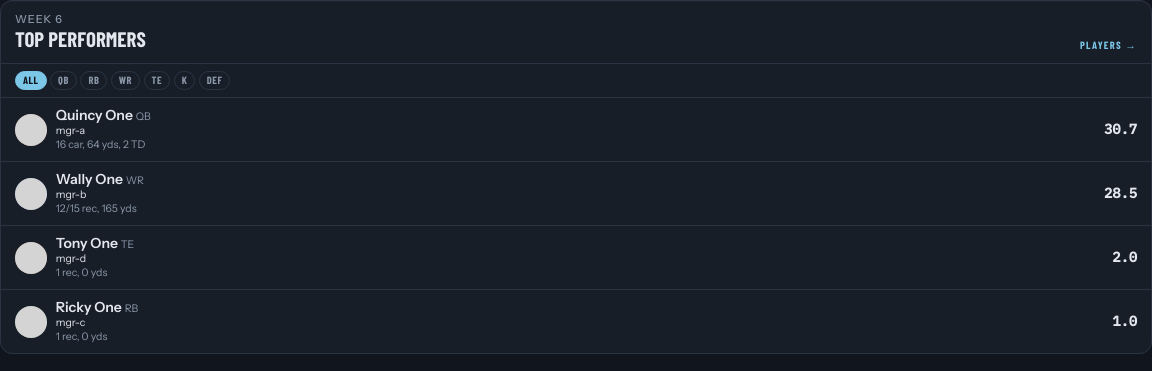
Test: TopPerformers › filters by position, saying so when nobody at that position started
Step 1. Click the button "WR" → (126, 80), box [111,70,140,90]
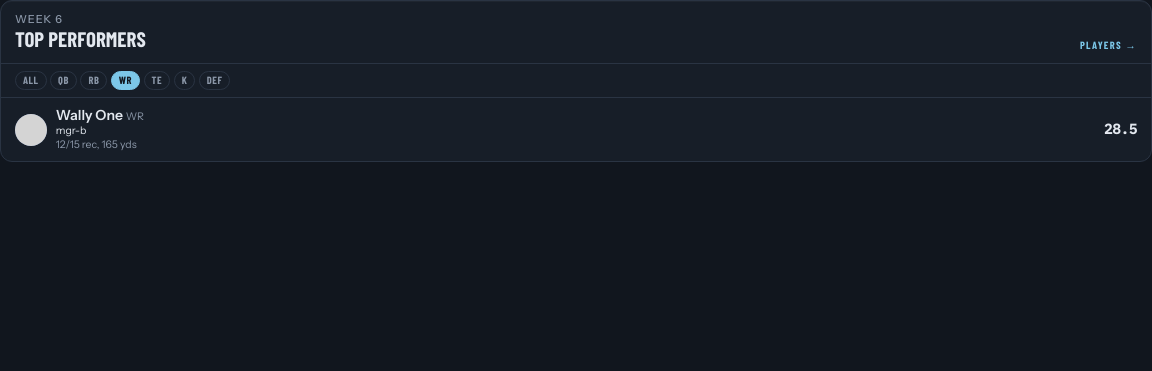
Result: the button "WR" is pressed at [111,70,140,90]
Step 2. Click the button "DEF" → (215, 80), box [199,70,230,90]
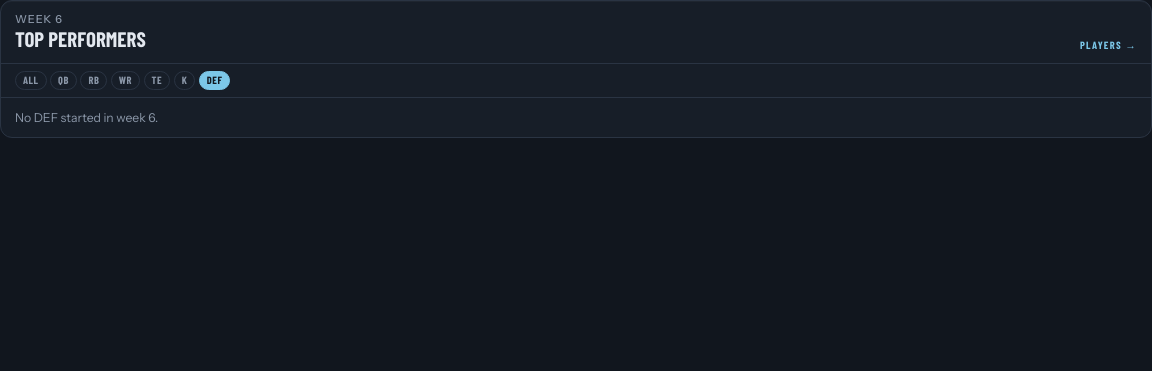
Result: no list items are shown
Result: the element "Week 6 Top performers" shows "No DEF started in week 6." at [0,0,1151,138]
